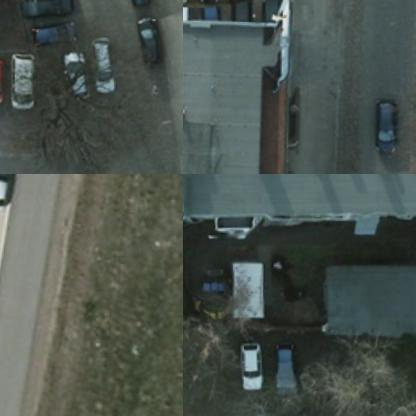car: (91, 32, 126, 86), (375, 94, 406, 152), (135, 11, 168, 60), (30, 12, 82, 42), (241, 336, 269, 386), (66, 49, 92, 100), (11, 52, 37, 102), (25, 0, 77, 20), (0, 174, 19, 212), (247, 403, 277, 415), (0, 59, 8, 103), (280, 403, 309, 415)
